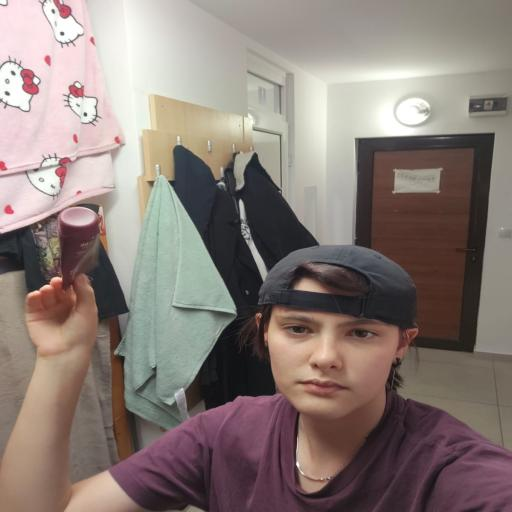Hand Cream: (56, 206, 101, 291)
